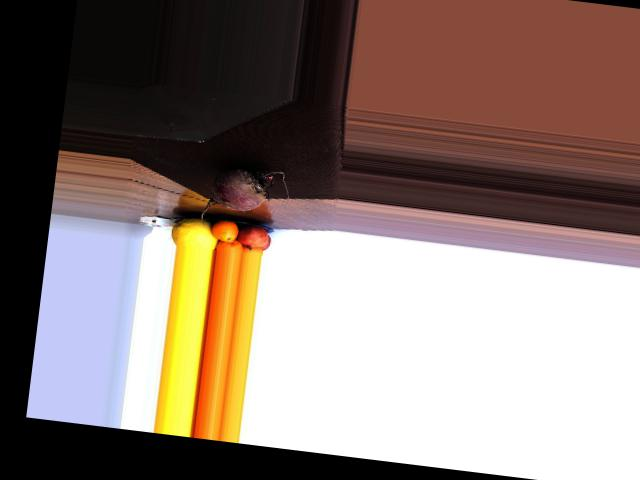beet: (199, 162, 291, 235)
